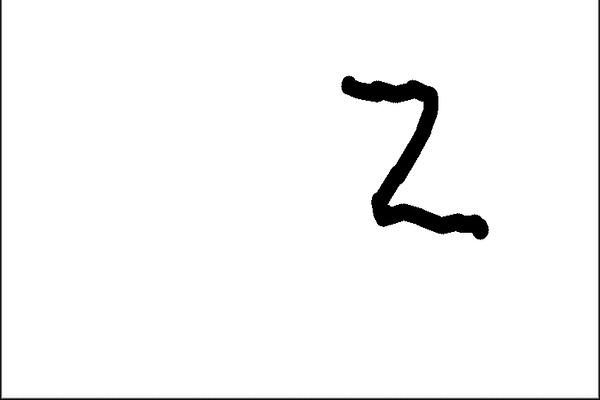Z: (334, 66, 494, 244)
